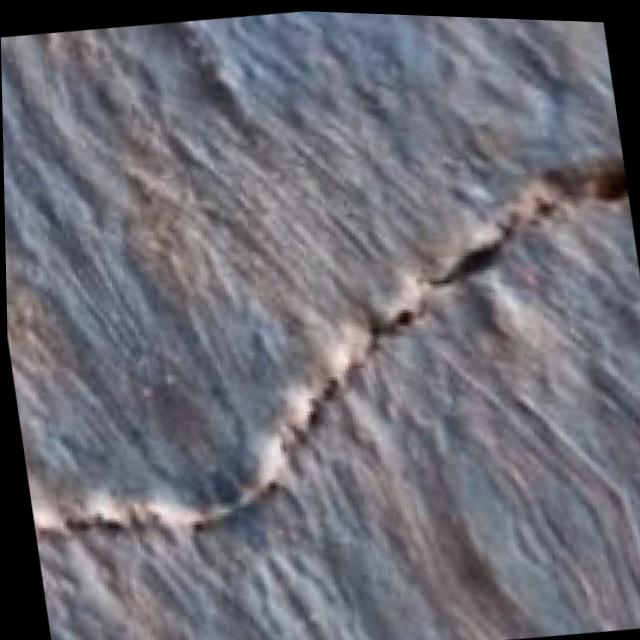Crack: (2, 126, 640, 588)
